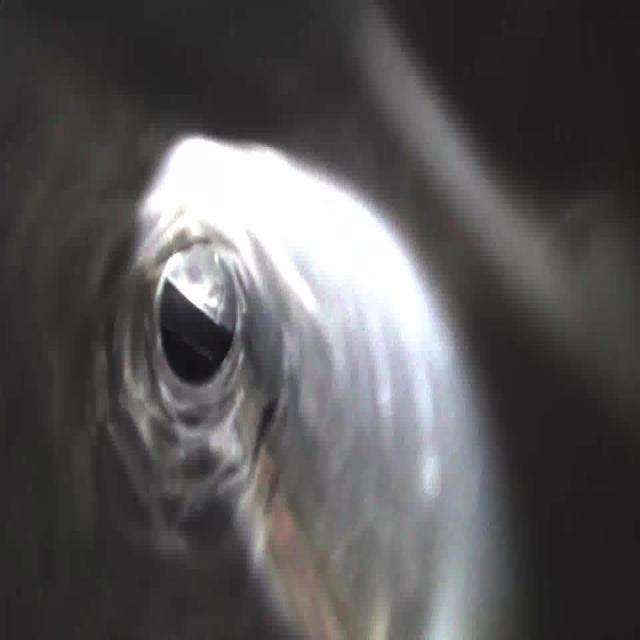crack: (102, 393, 176, 521), (188, 392, 246, 522), (87, 259, 156, 368)
